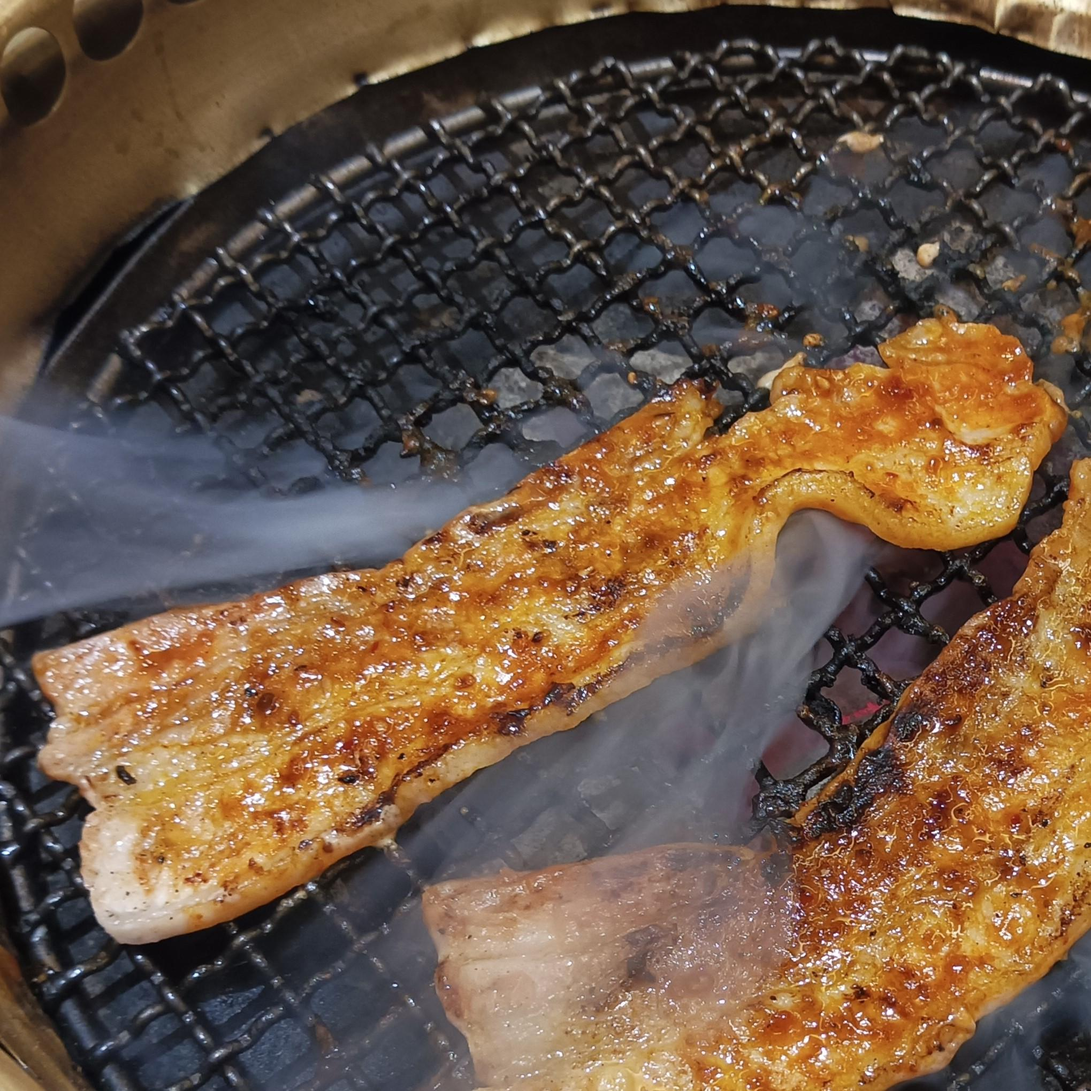Overcooked: (33, 316, 1066, 942), (424, 460, 1090, 1090)
